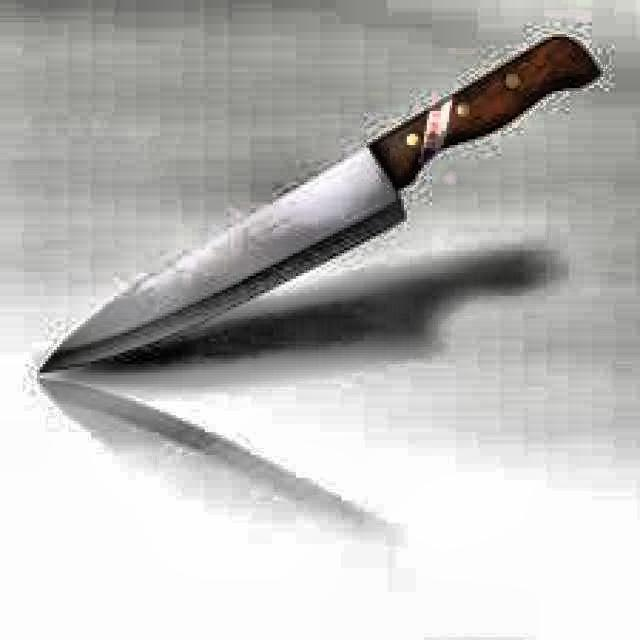knife: (34, 31, 611, 382)
